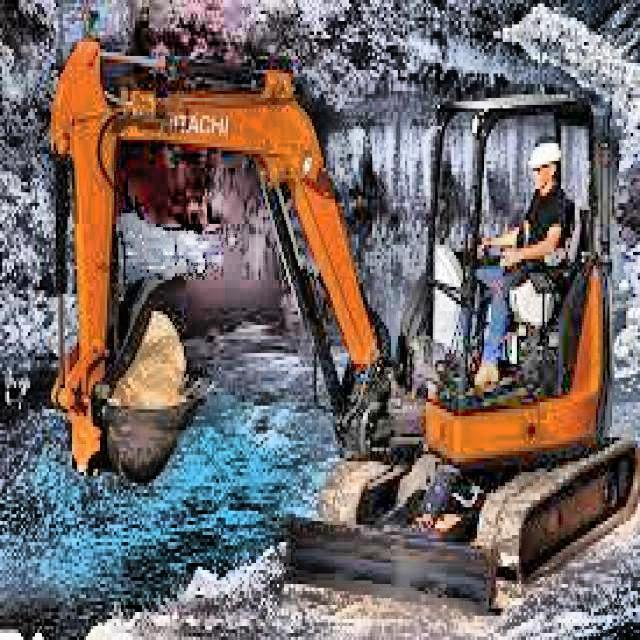bull_dozer/loader/grader: (41, 29, 640, 616)
person: (472, 130, 578, 389)
